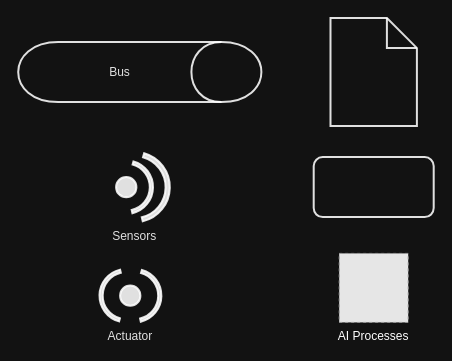
This 452x361 diagram has some shape labels left out. Grey dashed boxes stand in for pictures. Each missing label, with the centre of its shape:
"Event specifications" belongs at [373,72].
"Process" belongs at [373,187].
